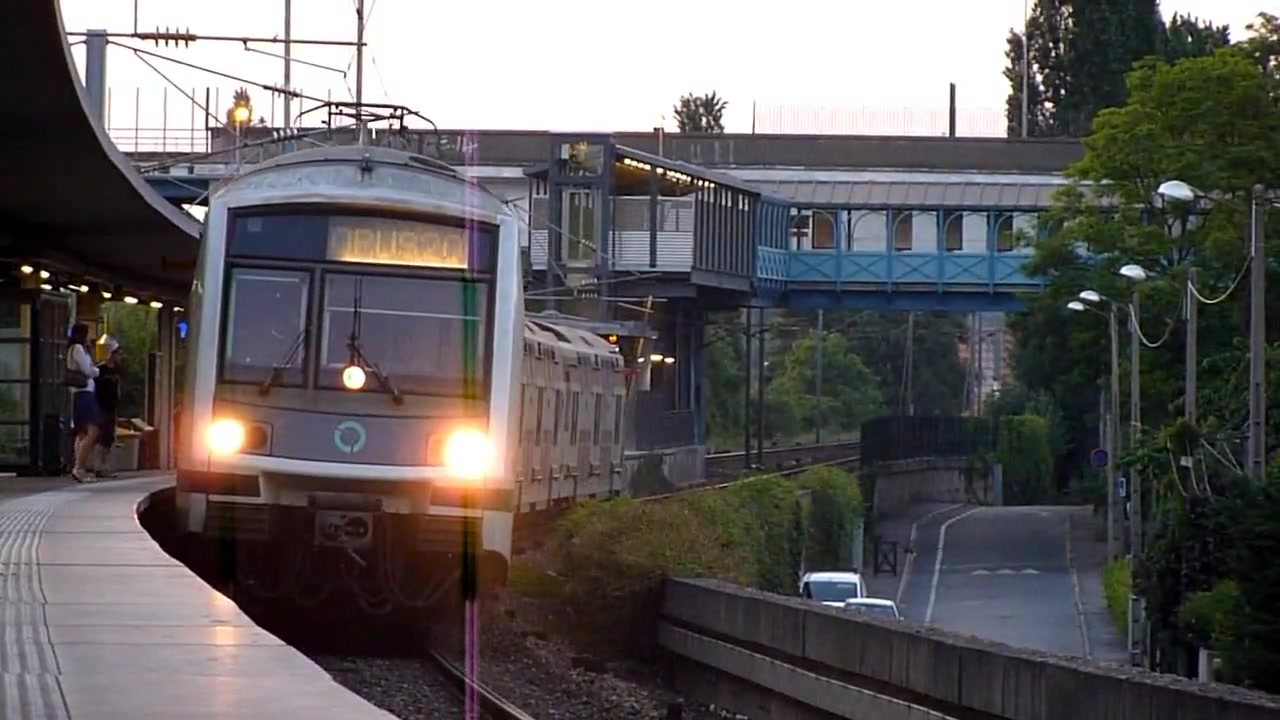train: (172, 102, 635, 597)
